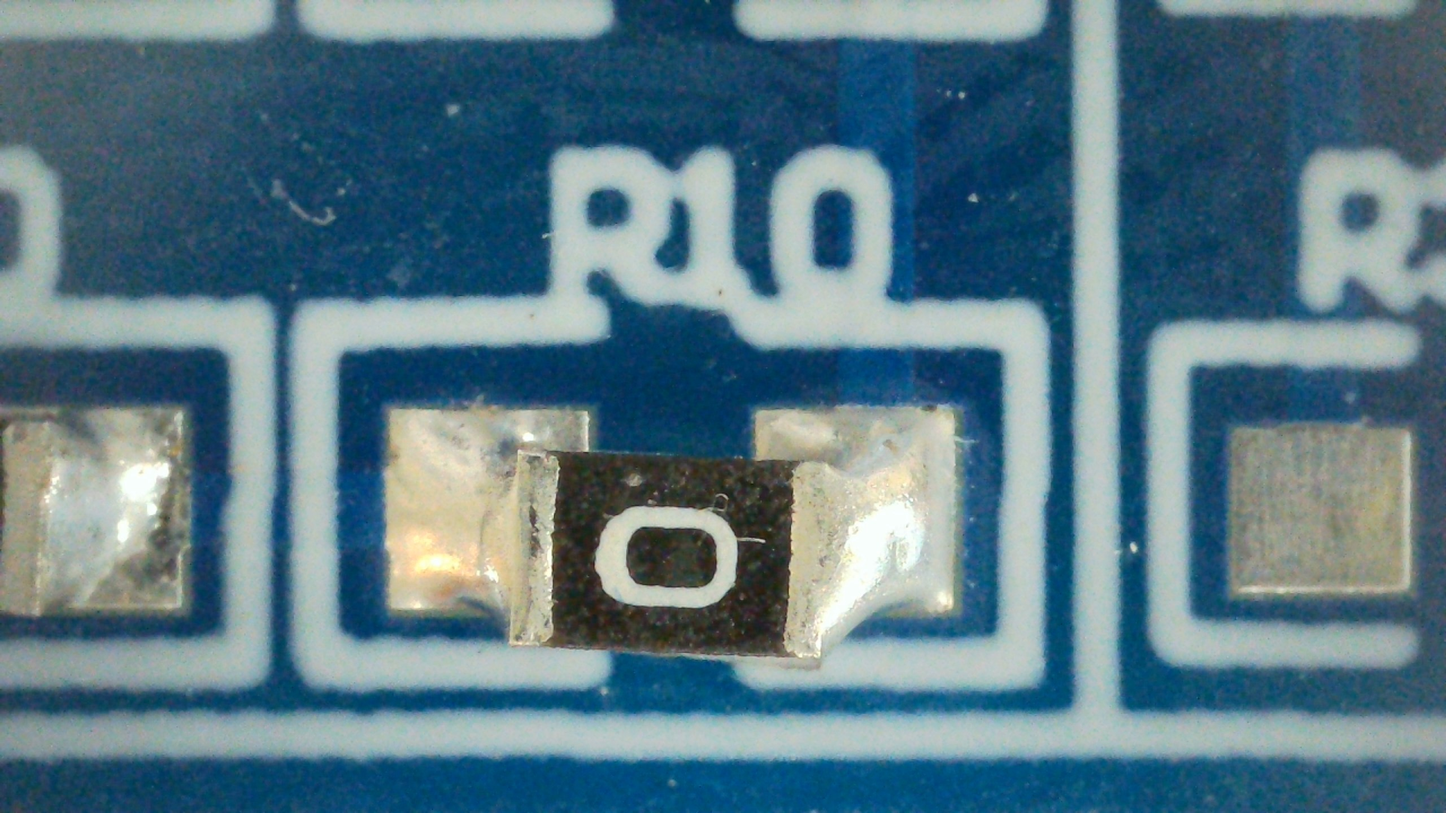NG: (383, 409, 954, 657)
